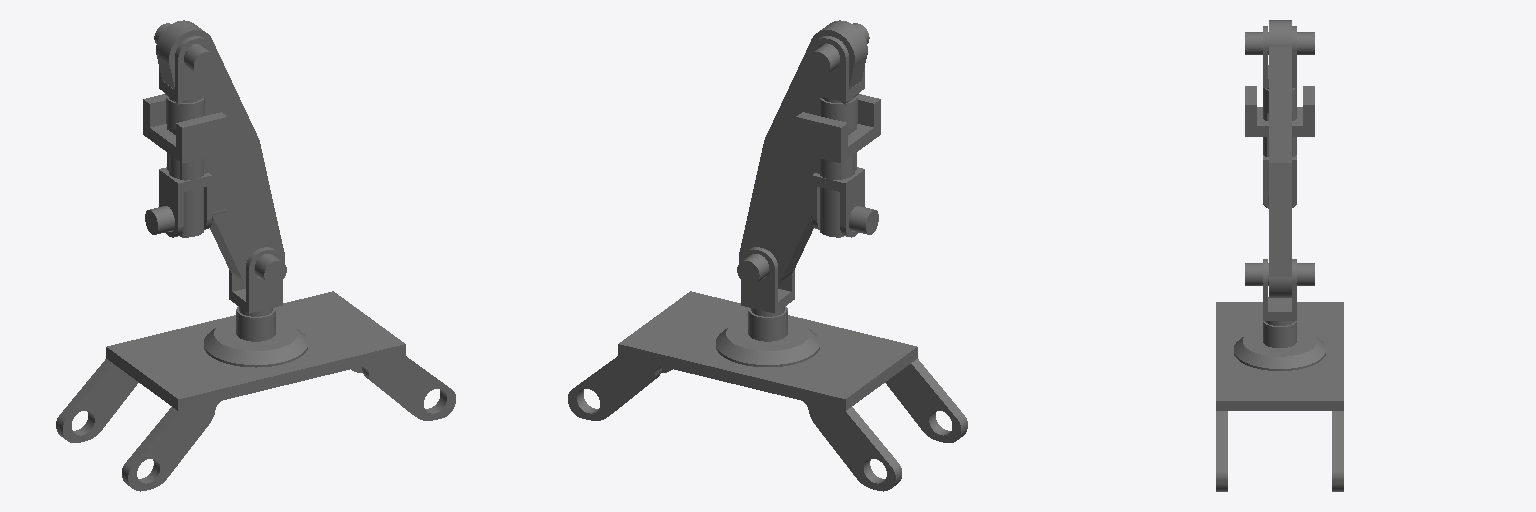
robot.urdf — robot_platform:
<?xml version="1.0"?>
<robot name="robot_platform">

  <!-- Materials -->
  <material name="grey">
    <color rgba="0.5 0.5 0.5 1"/>
  </material>

  <!-- World link -->
  <link name="world"/>

  <!-- Fixed joint connecting world to base_link -->
  <joint name="fixed_joint" type="fixed">
    <parent link="world"/>
    <child link="base_link"/>
    <origin xyz="0 0 0" rpy="0 0 0"/>
  </joint>

  <!-- Base platform using mesh -->
  <link name="base_link">
    <visual>
      <geometry>
        <mesh filename="package://robot_arm/meshes/robot_chassis.stl" scale="1 1 1"/>
      </geometry>
      <material name="grey"/>
      <origin xyz="0 0 0" rpy="0 0 0"/>
    </visual>
    <collision>
      <geometry>
        <mesh filename="package://robot_arm/meshes/robot_chassis.stl" scale="1 1 1"/>
      </geometry>
      <origin xyz="0 0 0" rpy="0 0 0"/>
    </collision>
  </link>

  <!-- Robot arm base link on top of chassis -->
  <link name="arm_base">
    <visual>
      <geometry>
        <mesh filename="package://robot_arm/meshes/robot_arm_base.stl" scale="1 1 1"/>
      </geometry>
      <material name="grey"/>
      <origin xyz="0 0 0" rpy="0 0 0"/> <!-- adjust height so it sits on top of base_link -->
    </visual>
    <collision>
      <geometry>
        <mesh filename="package://robot_arm/meshes/robot_arm_base.stl" scale="1 1 1"/>
      </geometry>
      <origin xyz="0 0 0" rpy="0 0 0"/>
    </collision>
  </link>

  <!-- Fixed joint connecting base_link to arm_base -->
  <joint name="fixed_joint_arm_base" type="fixed">
    <parent link="base_link"/>
    <child link="arm_base"/>
    <origin xyz="0 0 0" rpy="0 0 0"/>
  </joint>

    <!-- Robot base joint link on top of arm_base -->
  <link name="robot_base_joint">
    <visual>
      <geometry>
        <mesh filename="package://robot_arm/meshes/robot_base_joint.stl" scale="1 1 1"/>
      </geometry>
      <material name="grey"/>
      <origin xyz="0 0 11" rpy="0 0 0"/> <!-- place on top of arm_base -->
    </visual>
    <collision>
      <geometry>
        <mesh filename="package://robot_arm/meshes/robot_base_joint.stl" scale="1 1 1"/>
      </geometry>
      <origin xyz="0 0 11" rpy="0 0 0"/>
    </collision>
  </link>

  <!-- Revolute continuous joint connecting arm_base to robot_base_joint -->
  <joint name="joint_robot_base" type="continuous">
    <parent link="arm_base"/>
    <child link="robot_base_joint"/>
    <origin xyz="0 0 0" rpy="0 0 0"/> <!-- align child frame with top of arm_base -->
    <axis xyz="0 0 11"/>
  </joint>

  <!-- Arm_Link_1 -->
  <link name="robot_arm_link_1">
    <visual>
      <geometry>
        <mesh filename="package://robot_arm/meshes/robot_link_1.stl" scale="1 1 1"/>
      </geometry>
      <material name="grey"/>
      <origin xyz="0 0 -38.5" rpy="0 0 0"/> <!-- place on top of arm_base -->
    </visual>
    <collision>
      <geometry>
        <mesh filename="package://robot_arm/meshes/robot_link_1.stl" scale="1 1 1"/>
      </geometry>
      <origin xyz="0 0 -38.5" rpy="0 0 0"/>
    </collision>
  </link>

  <!-- Revolute continuous joint connecting arm_base to robot_base_joint -->
  <joint name="joint_robot_link_1" type="continuous">
    <parent link="robot_base_joint"/>
    <child link="robot_arm_link_1"/>
    <origin xyz="0 0 41" rpy="0 0 0"/> <!-- align child frame with top of arm_base -->
    <axis xyz="0 1 0"/>
  </joint>

 <!-- Joint_2 -->
  <link name="robot_joint_2">
    <visual>
      <geometry>
        <mesh filename="package://robot_arm/meshes/robot_base_joint.stl" scale="1 1 1"/>
      </geometry>
      <material name="grey"/>

      <!-- shift mesh DOWN so the joint axis is at the TOP -->
      <origin xyz="0 0 -30" rpy="0 0 0"/>
    </visual>

    <collision>
      <geometry>
        <mesh filename="package://robot_arm/meshes/robot_base_joint.stl" scale="1 1 1"/>
      </geometry>
      <origin xyz="0 0 -30" rpy="0 0 0"/>
    </collision>
  </link>

  <joint name="joint_robot_base_2" type="continuous">
    <parent link="robot_arm_link_1"/>
    <child link="robot_joint_2"/>

    <!-- joint stays at 0,0,0 -->
    <origin xyz="-31 0 96" rpy="0 0 0"/>
    <axis xyz="0 1 0"/>
  </joint>

  <!-- Link_2 -->
  <link name="robot_arm_link_2">
    <visual>
      <geometry>
        <mesh filename="package://robot_arm/meshes/robot_link_2.stl" scale="1 1 1"/>
      </geometry>
      <material name="grey"/>

      <!-- shift mesh DOWN so the joint axis is at the TOP -->
      <origin xyz="0 0 -20" rpy="3.14159 0 0"/>
    </visual>

    <collision>
      <geometry>
        <mesh filename="package://robot_arm/meshes/robot_link_2.stl" scale="1 1 1"/>
      </geometry>
      <origin xyz="0 0 -20" rpy="3.14159 0 0"/>
    </collision>
  </link>

  <joint name="joint_robot_link_2" type="continuous">
    <parent link="robot_joint_2"/>
    <child link="robot_arm_link_2"/>

    <!-- joint stays at 0,0,0 -->
    <origin xyz="0 0 0" rpy="0 0 0"/>
    <axis xyz="0 0 1"/>
  </joint>

  <!-- Gripper -->
  <link name="gripper_link">
    <visual>
      <geometry>
        <mesh filename="package://robot_arm/meshes/robot_gripper.stl" scale="1 1 1"/>
      </geometry>
      <material name="grey"/>

      <!-- shift mesh DOWN so the joint axis is at the TOP -->
      <origin xyz="0 0 30" rpy="3.14159 0 1.57"/>
    </visual>

    <collision>
      <geometry>
        <mesh filename="package://robot_arm/meshes/robot_gripper.stl" scale="1 1 1"/>
      </geometry>
      <origin xyz="0 0 30" rpy="3.14159 0 1.57"/>
    </collision>
  </link>

  <joint name="gripper_joint" type="continuous">
    <parent link="robot_arm_link_2"/>
    <child link="gripper_link"/>

    <!-- joint stays at 0,0,0 -->
    <origin xyz="0 0 -70" rpy="0 0 0"/>
    <axis xyz="1 0 0"/>
  </joint>


</robot>

--- Render facts (derived) ---
Views: 3 orthographic renders of the robot side by side, from view 1: azimuth 30°, elevation 25°; view 2: azimuth 150°, elevation 25°; view 3: azimuth 270°, elevation 25°.
Model robot_platform with 8 links and 7 joints (5 continuous, 2 fixed), rooted at world, posed every joint at zero.
Visible links, largest first — view 1: base_link, robot_arm_link_1, gripper_link, arm_base, robot_arm_link_2, robot_base_joint, robot_joint_2; view 2: base_link, robot_arm_link_1, gripper_link, arm_base, robot_arm_link_2, robot_base_joint, robot_joint_2; view 3: base_link, robot_arm_link_1, arm_base, gripper_link, robot_base_joint, robot_joint_2, robot_arm_link_2.
Link boxes in pixels (left/top/right/bottom): base_link: left=56, top=291, right=455, bottom=491; robot_arm_link_1: left=154, top=20, right=286, bottom=284; gripper_link: left=143, top=94, right=227, bottom=237; arm_base: left=204, top=306, right=307, bottom=367; robot_arm_link_2: left=145, top=95, right=225, bottom=237; robot_base_joint: left=229, top=247, right=282, bottom=316; robot_joint_2: left=159, top=36, right=211, bottom=102; base_link: left=568, top=291, right=967, bottom=491; robot_arm_link_1: left=737, top=20, right=869, bottom=284; gripper_link: left=796, top=94, right=880, bottom=237; arm_base: left=716, top=306, right=819, bottom=366; robot_arm_link_2: left=811, top=95, right=878, bottom=237; robot_base_joint: left=741, top=247, right=794, bottom=316; robot_joint_2: left=812, top=36, right=864, bottom=102; base_link: left=1216, top=302, right=1343, bottom=491; robot_arm_link_1: left=1245, top=20, right=1314, bottom=297; arm_base: left=1234, top=321, right=1325, bottom=370; gripper_link: left=1245, top=86, right=1314, bottom=208; robot_base_joint: left=1263, top=259, right=1296, bottom=325; robot_joint_2: left=1263, top=26, right=1296, bottom=88; robot_arm_link_2: left=1263, top=88, right=1296, bottom=207.
Size in the robot's own frame: 144 by 55 by 177 metres.
7 mesh visuals loaded from 6 distinct referenced files (6 binary STL).
